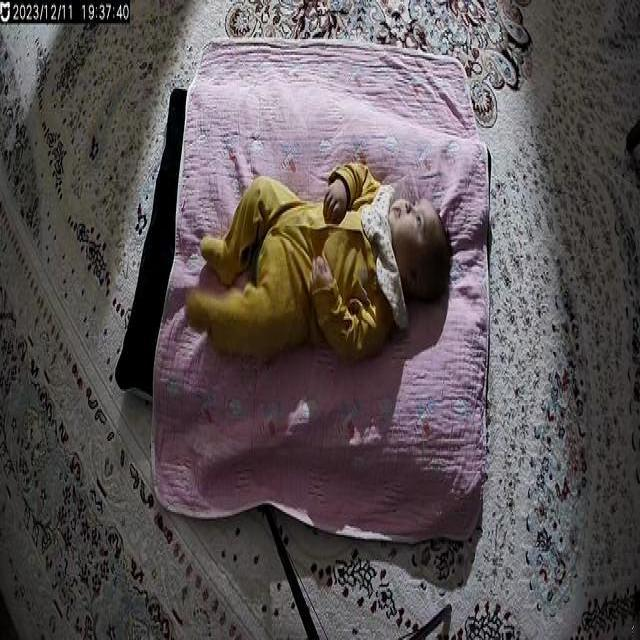baby: (186, 152, 450, 370)
